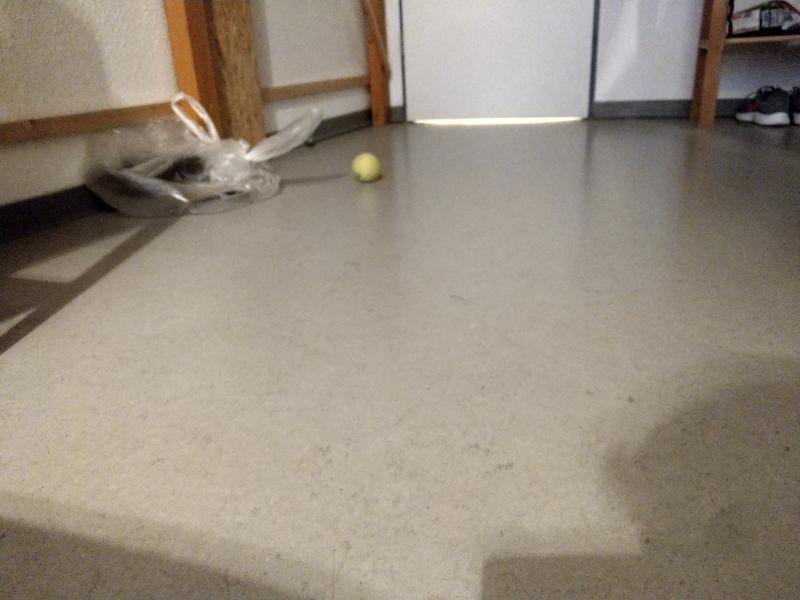Tennisball: (350, 150, 385, 185)
